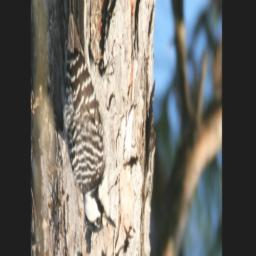Woodpecker: (62, 0, 117, 234)
